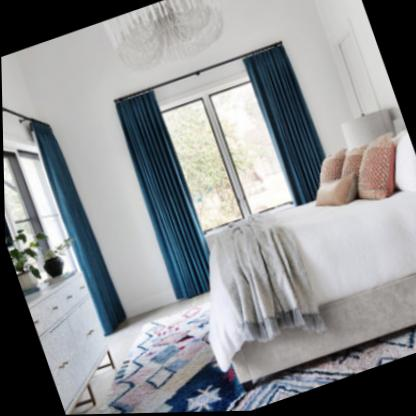Bed: (163, 107, 416, 395)
Curtains: (28, 121, 125, 336), (115, 90, 209, 301), (242, 45, 326, 207)
